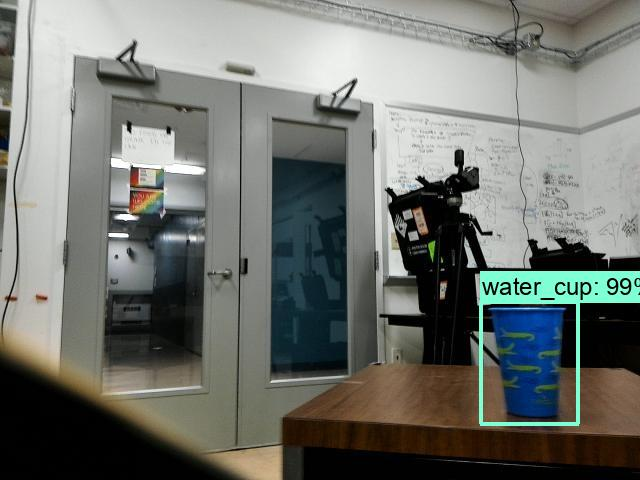water_cup: (479, 303, 575, 424)
